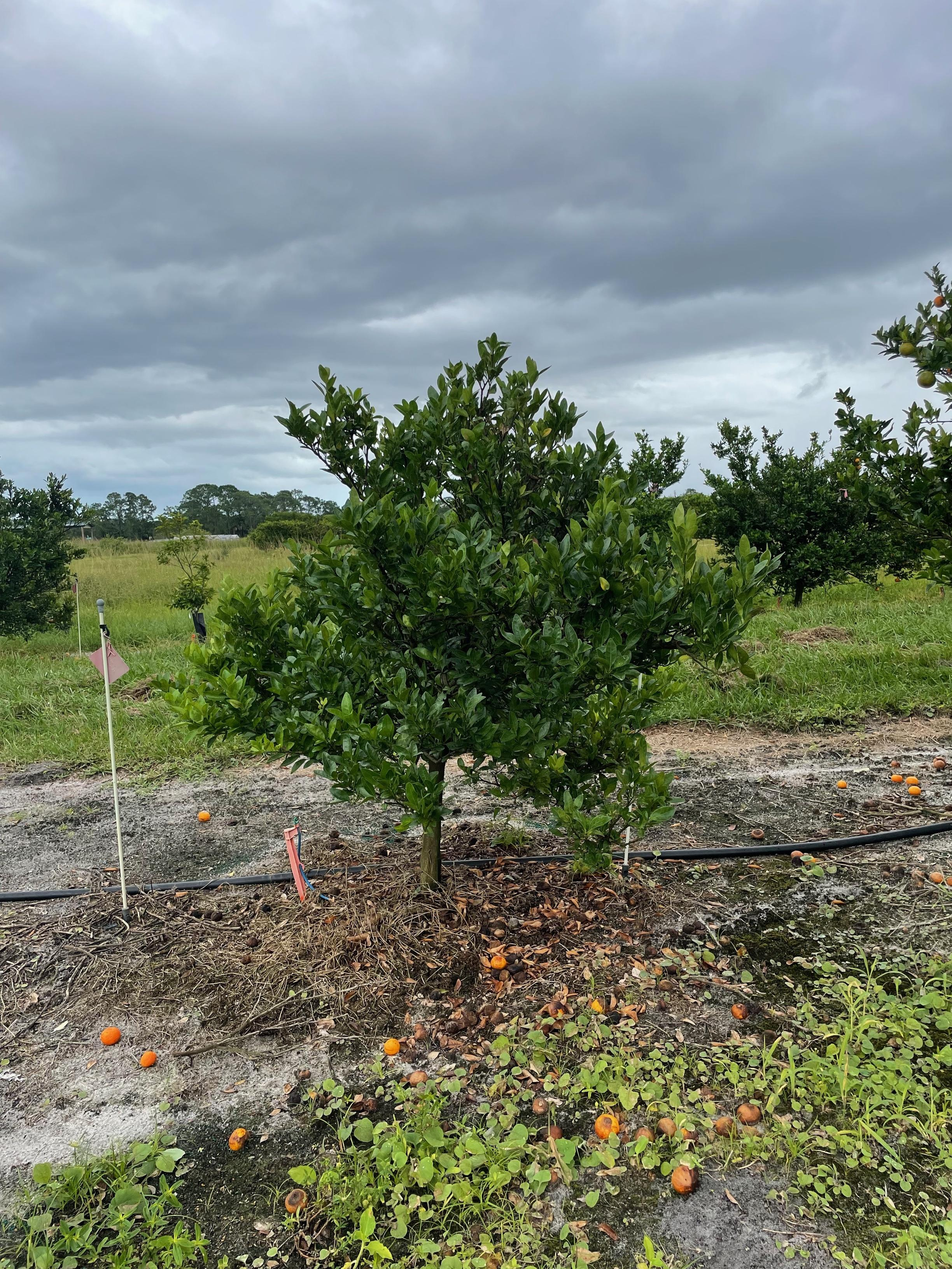fruit_on_ground: (915, 369, 938, 390), (897, 339, 916, 358), (932, 294, 947, 309)
fruit_on_tree: (669, 1164, 700, 1197), (592, 1110, 620, 1140), (283, 1187, 311, 1215), (734, 1099, 763, 1126), (713, 1113, 738, 1137), (226, 1127, 250, 1151), (99, 1023, 123, 1047), (631, 1124, 658, 1145), (676, 1123, 699, 1146), (588, 995, 611, 1016), (381, 1035, 402, 1058), (655, 1115, 677, 1136), (729, 1000, 751, 1021), (529, 1096, 551, 1116), (138, 1048, 159, 1068), (544, 1122, 565, 1141), (408, 1068, 429, 1087), (488, 953, 509, 970), (927, 868, 946, 885), (931, 754, 948, 771), (906, 782, 923, 797), (749, 826, 766, 840), (196, 809, 213, 823), (790, 849, 805, 862), (835, 777, 849, 790), (904, 774, 919, 786), (890, 771, 905, 783), (802, 854, 817, 865), (889, 758, 903, 769)
